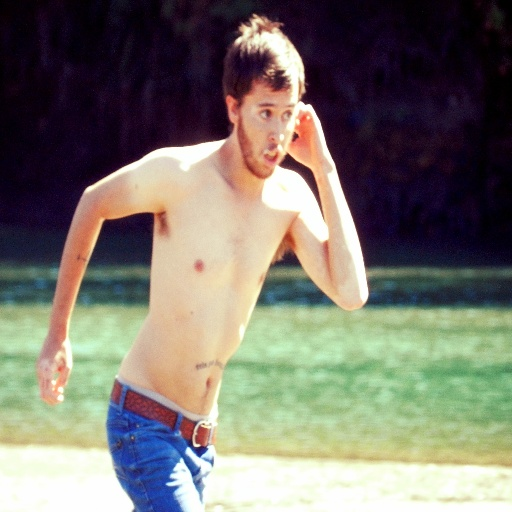hand: (286, 99, 329, 168), (30, 326, 65, 404)
